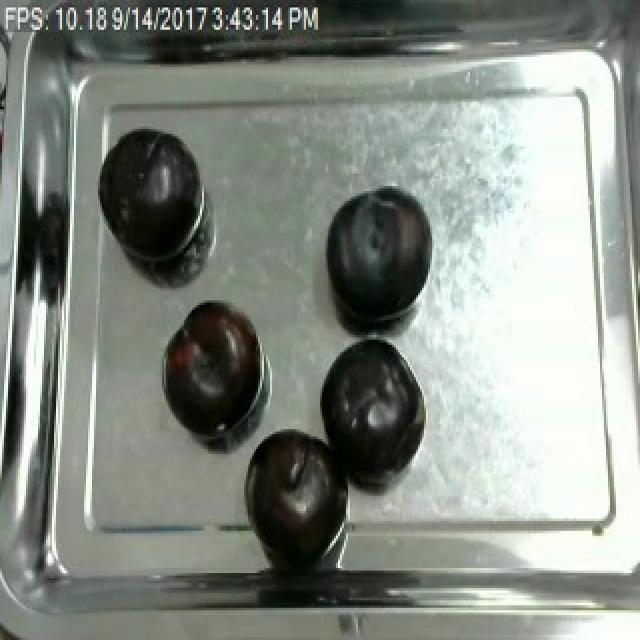Fruit: (320, 183, 436, 330), (316, 332, 424, 484), (96, 124, 208, 268), (160, 293, 264, 439), (246, 424, 340, 541)
